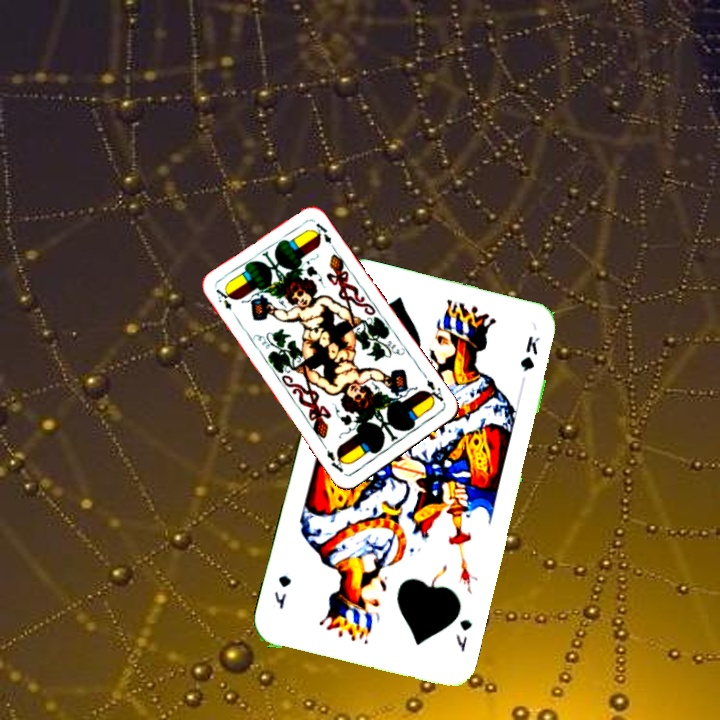EA: (421, 376, 447, 406), (212, 285, 235, 312)
GK: (452, 615, 475, 655)
